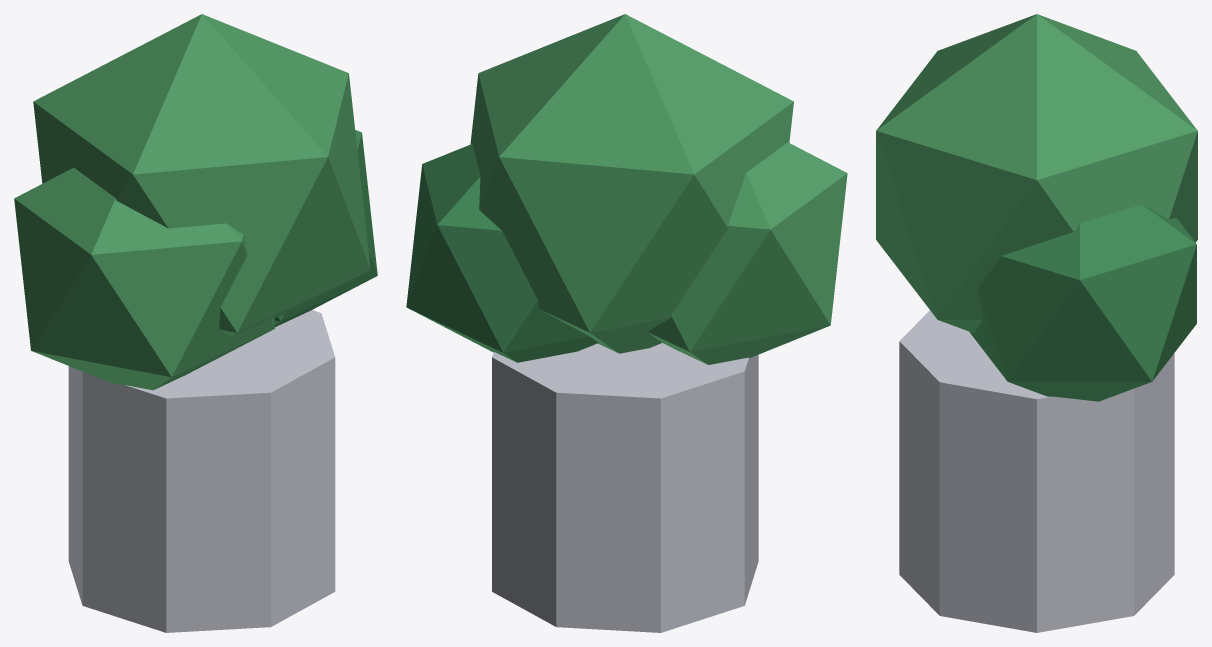
Rendered from plant_small.glb.
3 views of the same model, side by side, from view 1: azimuth 30°, elevation 25°; view 2: azimuth 150°, elevation 25°; view 3: azimuth 270°, elevation 25° (orthographic).
Parts seen in each view (by area): view 1: pot.001, leaf, leaf.002, leaf.001; view 2: pot.001, leaf, leaf.002, leaf.001; view 3: pot.001, leaf, leaf.001.
Part boxes in pixels (<box>): pot.001: <box>68,310,335,632</box>; leaf: <box>33,14,370,336</box>; leaf.002: <box>14,167,274,390</box>; leaf.001: <box>274,130,377,327</box>; pot.001: <box>492,343,758,632</box>; leaf: <box>470,14,793,353</box>; leaf.002: <box>647,142,847,364</box>; leaf.001: <box>406,144,598,362</box>; pot.001: <box>899,310,1174,632</box>; leaf: <box>876,14,1197,333</box>; leaf.001: <box>969,204,1196,401</box>.
Bounding box in the file's own units: 0.4952 × 0.72 × 0.3743.
